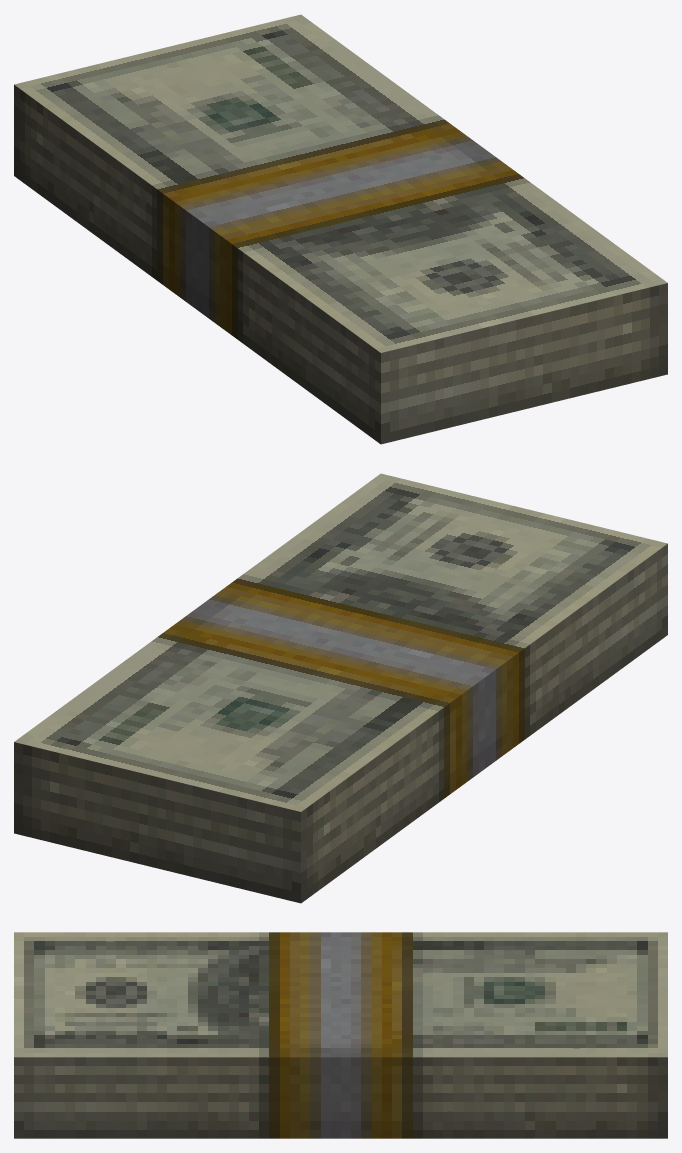
File: cash_2.glb
3 renders of one model, top to bottom at view 1: azimuth 30°, elevation 25°; view 2: azimuth 150°, elevation 25°; view 3: azimuth 270°, elevation 25°, orthographic. The views are drawn at different scales.
Visible parts, largest first — view 1: cash_2; view 2: cash_2; view 3: cash_2.
Part boxes in pixels (x1,y1,x2,y2): cash_2: [14, 14, 667, 444]; cash_2: [14, 473, 667, 903]; cash_2: [14, 932, 667, 1138].
Size of the model in its own units: 0.1031 by 0.0314 by 0.2281.
1 material, 1 textured.
